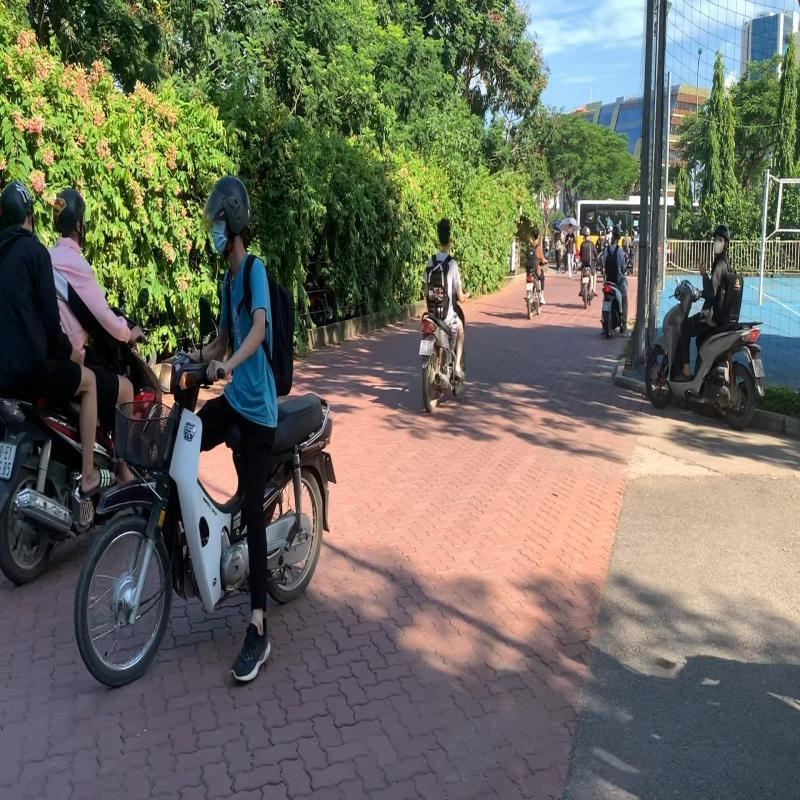nohelmet: (436, 213, 454, 250)
